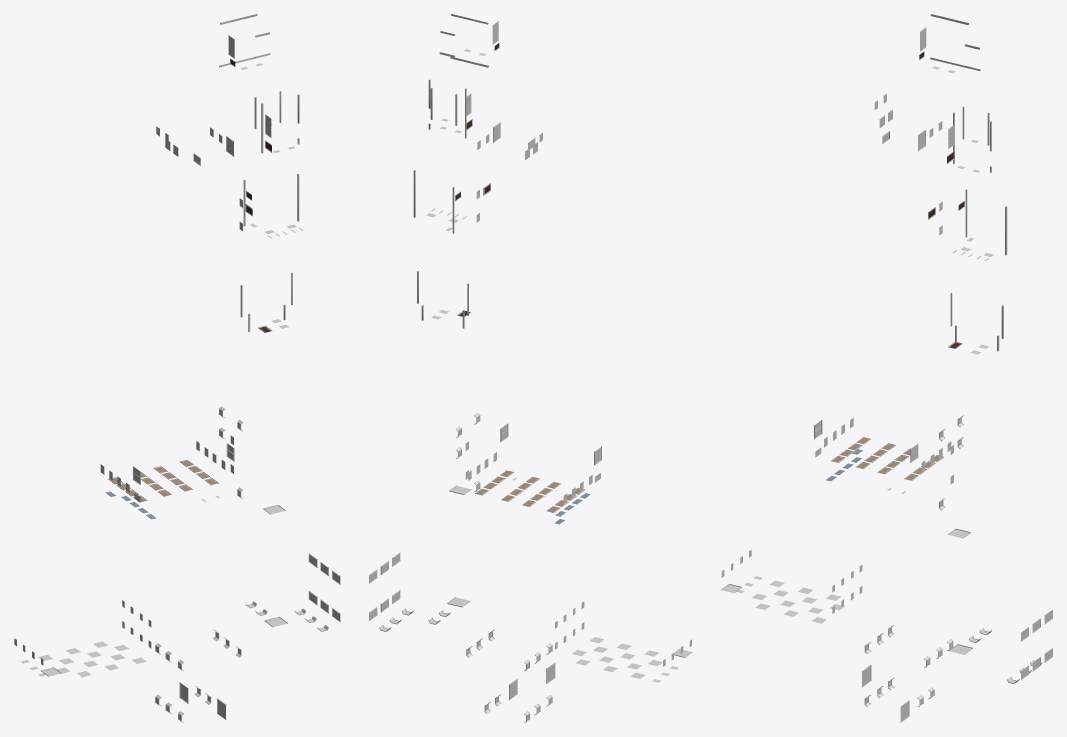
3 renders of one model, left to right at view 1: azimuth 30°, elevation 25°; view 2: azimuth 150°, elevation 25°; view 3: azimuth 330°, elevation 25°, orthographic. The views are drawn at different scales.
Parts seen in each view (by area): view 1: SM_000279.001; view 2: SM_000279.001; view 3: SM_000279.001.
Part boxes in pixels (x1,y1,x2,y2): SM_000279.001: [14, 14, 340, 722]; SM_000279.001: [369, 14, 692, 722]; SM_000279.001: [721, 14, 1052, 722].
Size of the model in its own units: 53.93 by 119 by 13.04.
